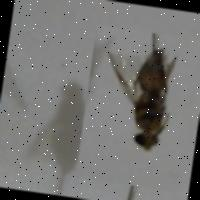Oriental-fruit-fly: (74, 24, 200, 191)
